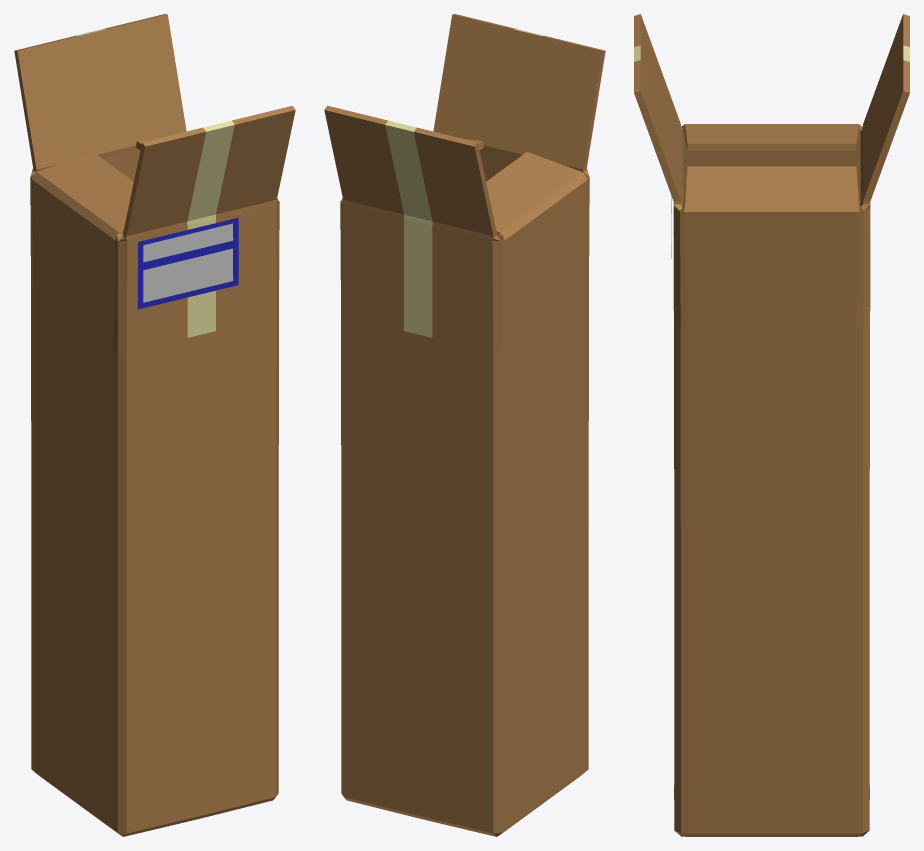
The model's file is Cardboard.026.gltf.
3 renders of one model, left to right at view 1: azimuth 30°, elevation 25°; view 2: azimuth 150°, elevation 25°; view 3: azimuth 270°, elevation 25°, orthographic. The views are drawn at different scales.
Parts seen in each view (by area): view 1: Cardboard.026, BlueSticker.011; view 2: Cardboard.026; view 3: Cardboard.026.
Part boxes in pixels (x1,y1,x2,y2): Cardboard.026: [14, 14, 295, 836]; BlueSticker.011: [137, 217, 238, 309]; Cardboard.026: [324, 14, 605, 836]; Cardboard.026: [634, 14, 909, 836].
Bounding box in the file's own units: 0.2773 × 1.15 × 0.3864.
3 materials, 1 textured.
